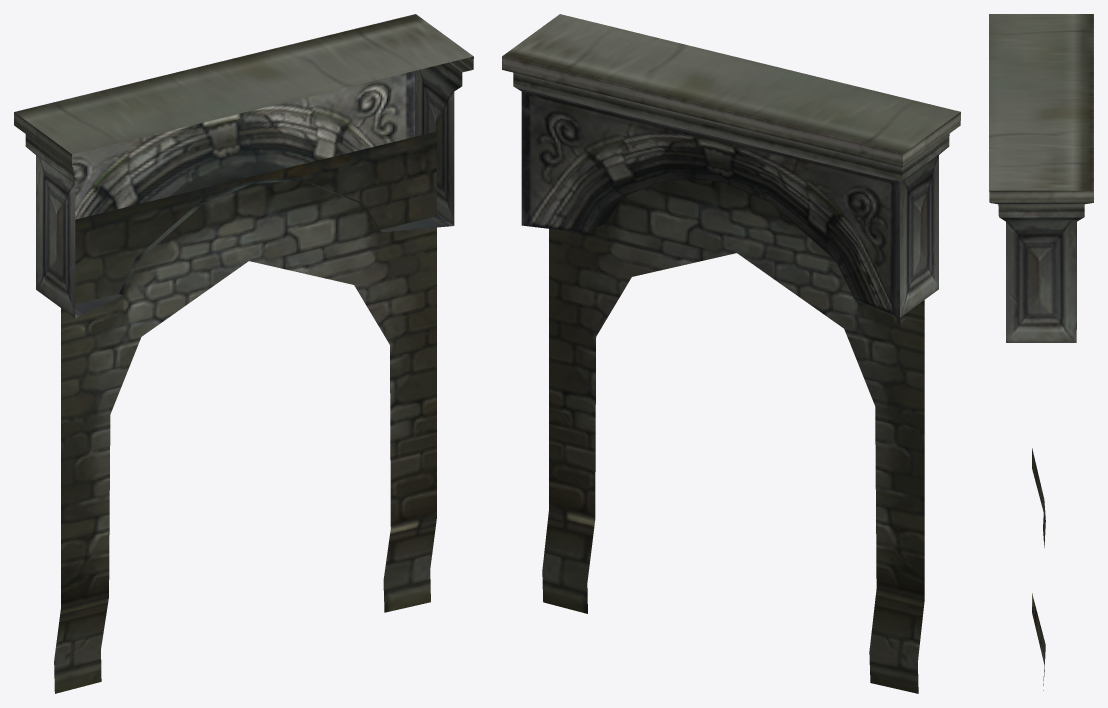
The picture shows the model from 3 angles, left to right: view 1: azimuth 30°, elevation 25°; view 2: azimuth 150°, elevation 25°; view 3: azimuth 270°, elevation 25°; orthographic projection. The views are drawn at different scales.
Parts seen in each view (by area): view 1: DN_1_4_dt01_d05; view 2: DN_1_4_dt01_d05; view 3: DN_1_4_dt01_d05.
Part boxes in pixels (x1,y1,x2,y2): DN_1_4_dt01_d05: [14, 14, 473, 693]; DN_1_4_dt01_d05: [502, 14, 960, 693]; DN_1_4_dt01_d05: [989, 14, 1093, 690].
Size of the model in its own units: 484 by 650 by 121.
